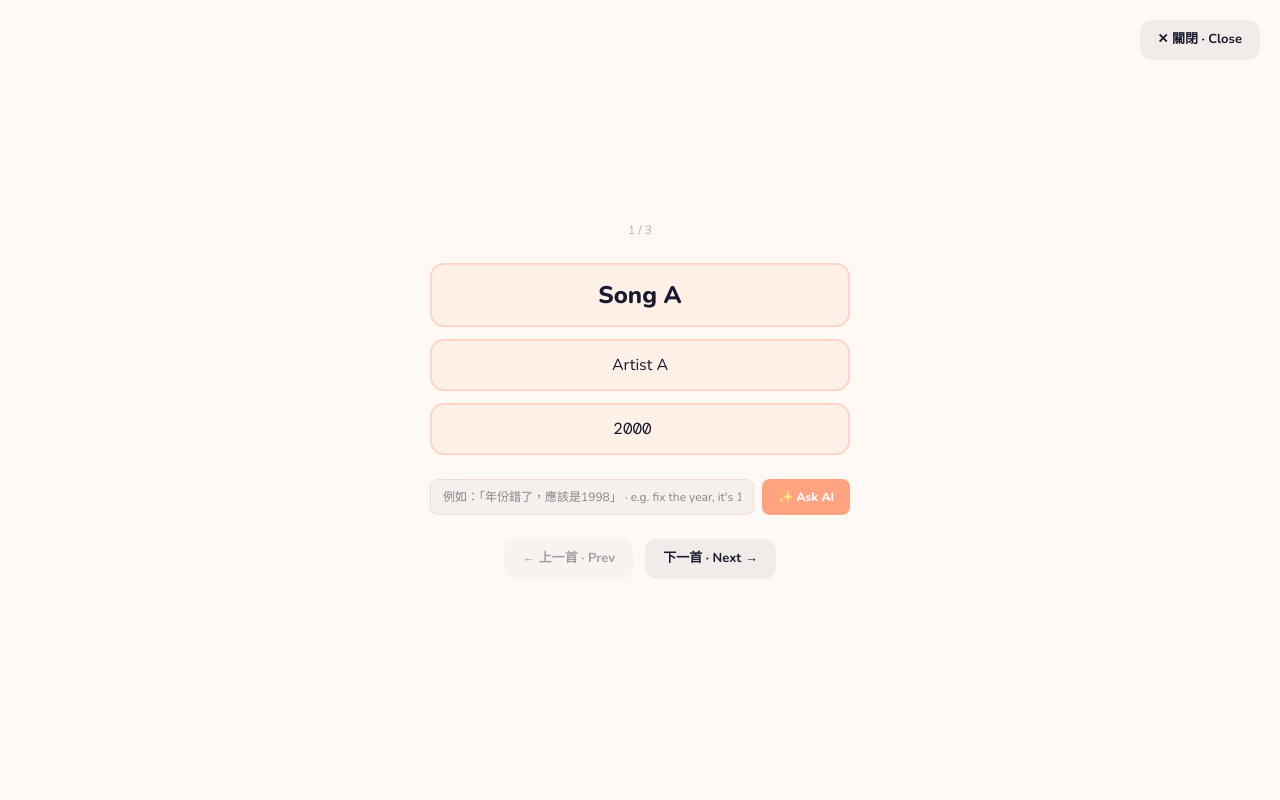
Scenario: SongItemEditor (T4, docs/designs/full-page-focus-editor.md) › applies an AI-proposed diff as a reviewable draft, not directly to the server
Type "fix the year, it's 1999" into the field with placeholder "例如：「年份錯了，應該是1998」 · e.g. fix the year, it's 1998" at (592, 497), box [430, 479, 754, 515]
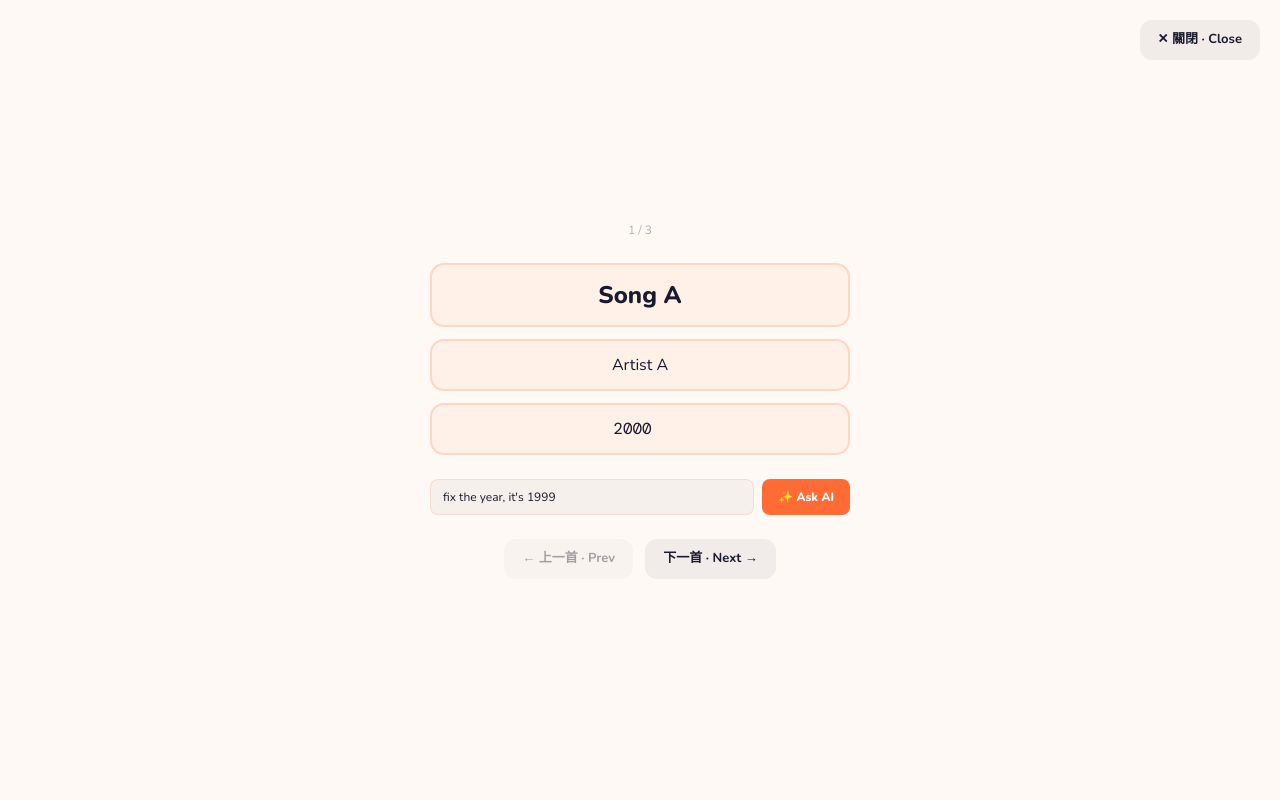
Click the button "✨ Ask AI" at (806, 497), box [762, 479, 850, 515]
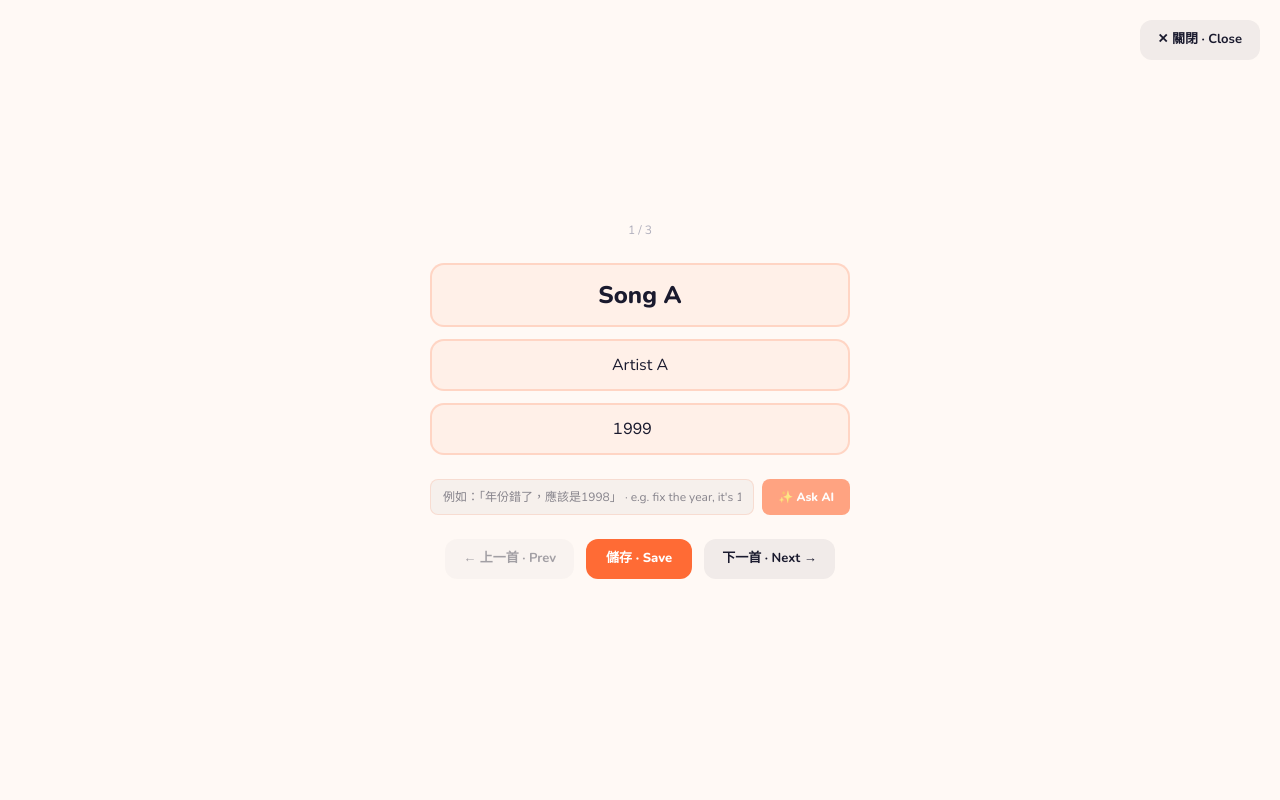
expect the number field showing "1999" is shown: met, box [430, 403, 850, 455]
expect the button "儲存 · Save" is shown: met, box [586, 539, 692, 579]
